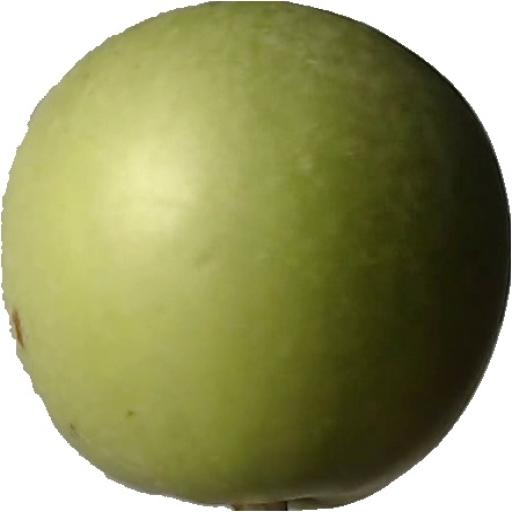apple-unripe: (0, 0, 512, 512), (0, 4, 466, 382)
